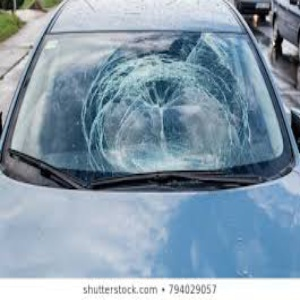front_windshield_glass: (45, 35, 263, 173)
